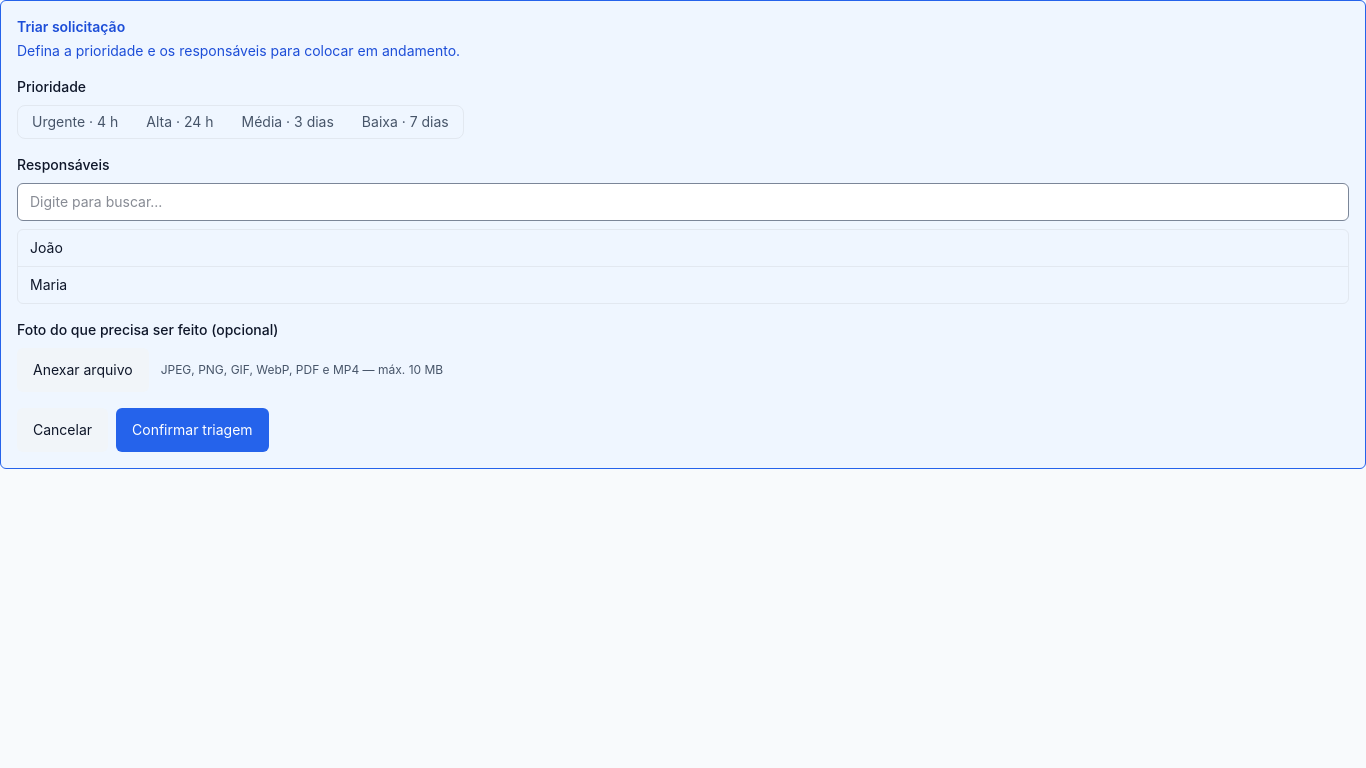
Test case: TriagemModal — envio › deve exigir a prioridade e um responsável quando nada foi escolhido
The width and height of the screenshot is (1366, 768).
Click the button "Confirmar triagem".
click(192, 430)  # box [116,408,268,452]
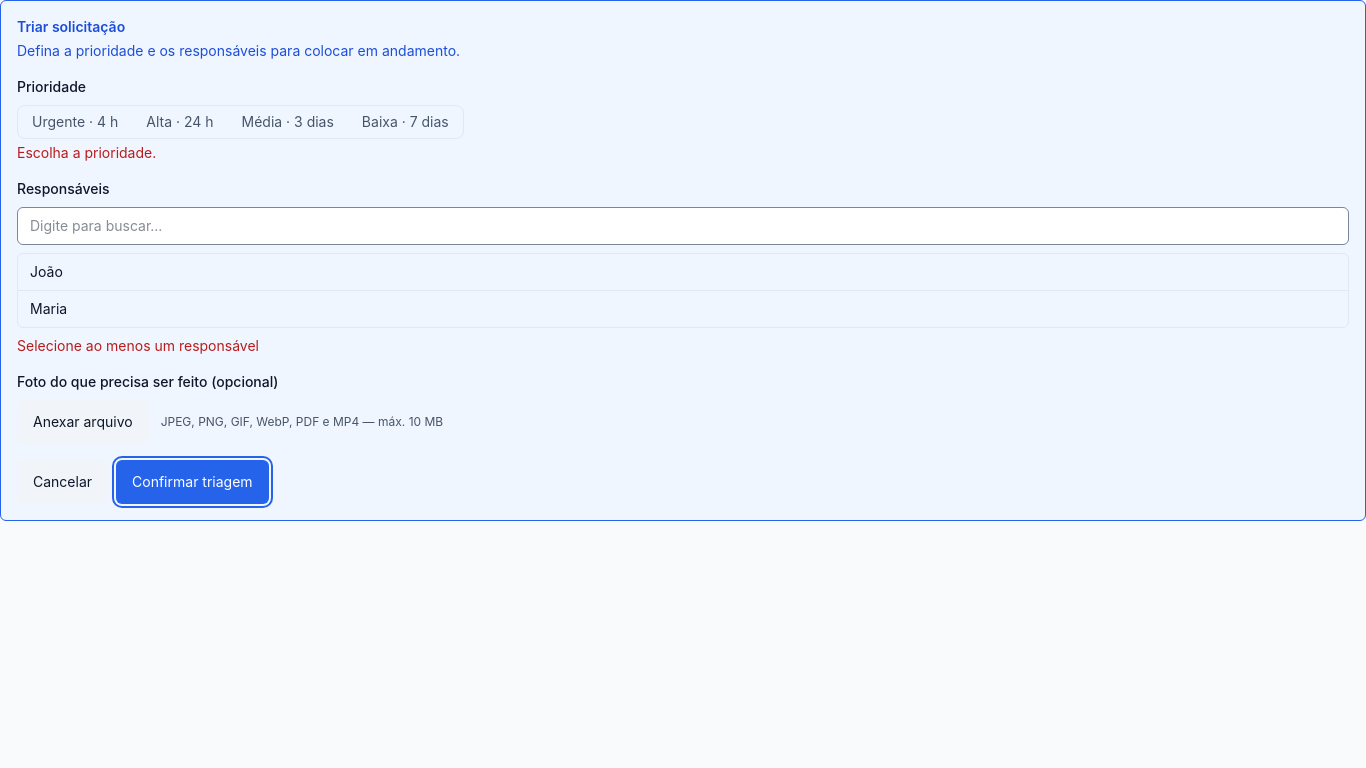
Expected: the text "Escolha a prioridade." is shown, [17,144,156,161]
Expected: the text "Selecione ao menos um responsável" is shown, [17,337,259,354]
